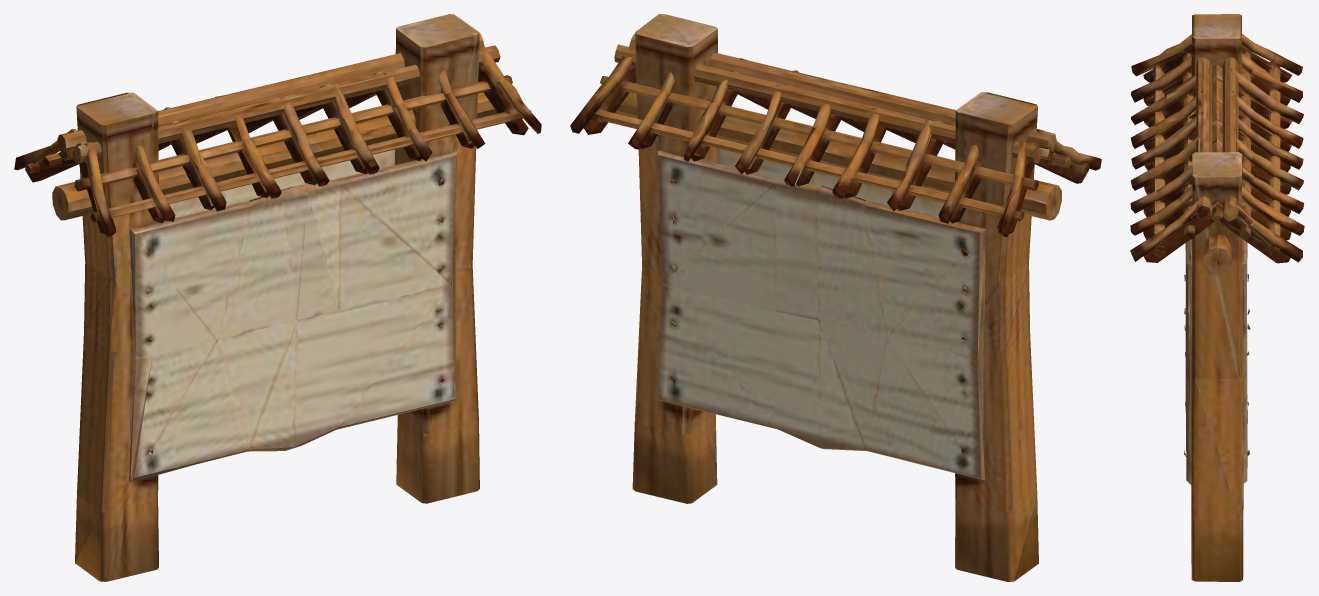
Rendered from notice-board.lod1.glb.
3 views of the same model, side by side, from view 1: azimuth 30°, elevation 25°; view 2: azimuth 150°, elevation 25°; view 3: azimuth 270°, elevation 25° (orthographic). The views are drawn at different scales.
Bounding box in the file's own units: 2.2 × 2.2 × 0.8599.
1 material, 1 textured.
